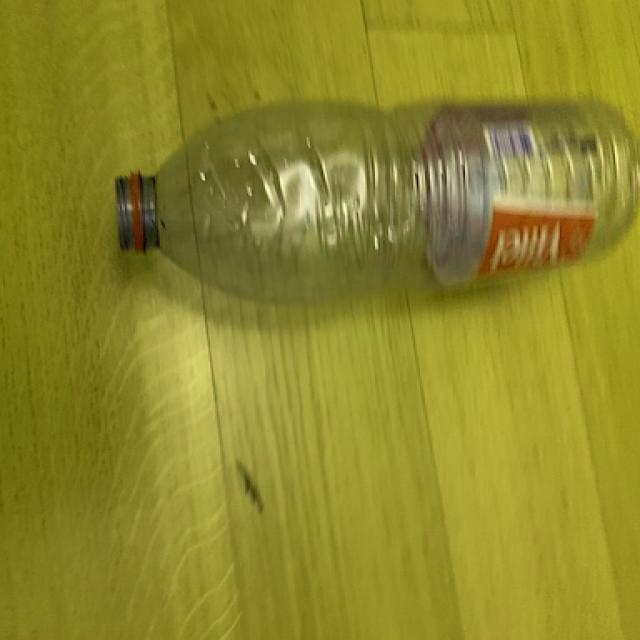bottle: (114, 100, 634, 305)
